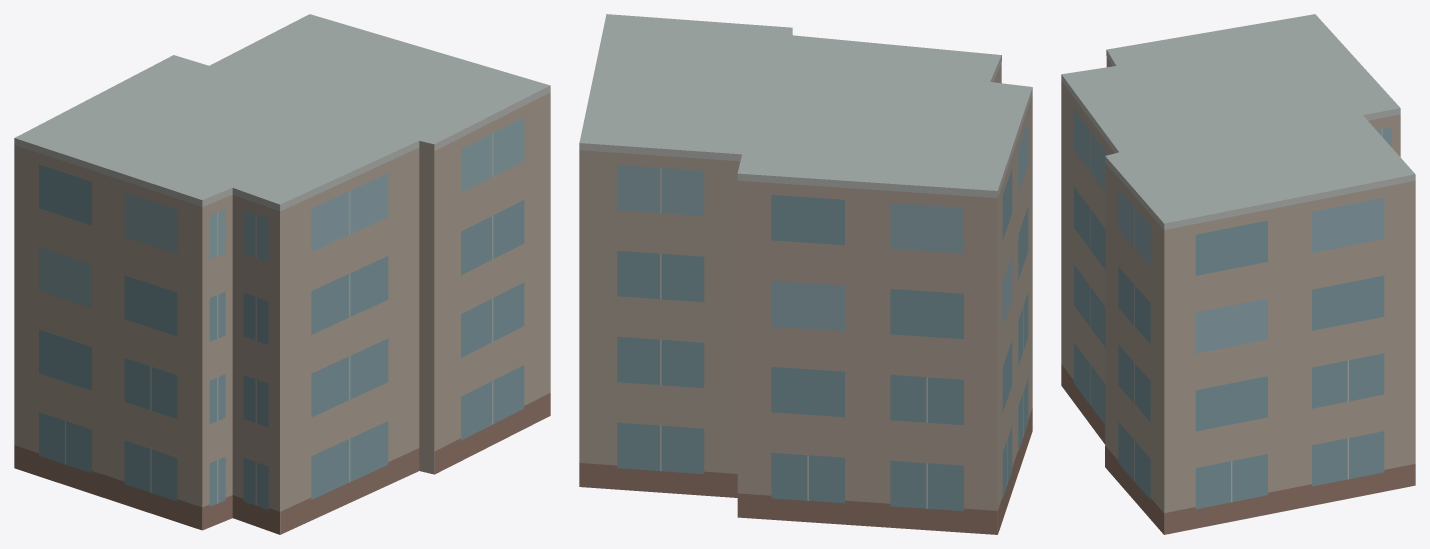
The model's file is survey-upis-32859525.glb.
The picture shows the model from 3 angles, left to right: view 1: azimuth 30°, elevation 25°; view 2: azimuth 150°, elevation 25°; view 3: azimuth 270°, elevation 25°; orthographic projection. The views are drawn at different scales.
Visible parts, largest first — view 1: survey-upis-32859525.tmp; view 2: survey-upis-32859525.tmp; view 3: survey-upis-32859525.tmp.
Part boxes in pixels (x1,y1,x2,y2): survey-upis-32859525.tmp: (14,14,550,534); survey-upis-32859525.tmp: (579,14,1032,534); survey-upis-32859525.tmp: (1061,14,1415,534).
Bounding box in the file's own units: 17.06 × 11.8 × 12.18.
